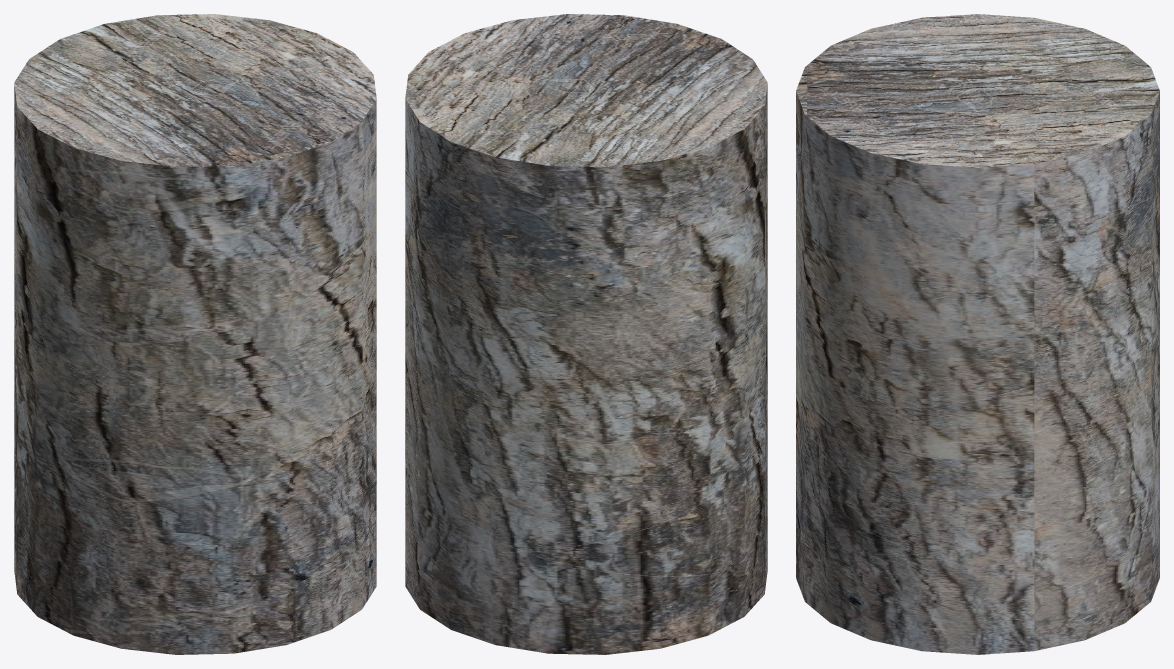
File: plantCylinder.obj
3 views of the same model, side by side, from view 1: azimuth 30°, elevation 25°; view 2: azimuth 150°, elevation 25°; view 3: azimuth 270°, elevation 25° (orthographic).
Parts seen in each view (by area): view 1: plantCylinder:pCylinder1; view 2: plantCylinder:pCylinder1; view 3: plantCylinder:pCylinder1.
Boxes of the visible parts, x1,y1,x2,y2 form: plantCylinder:pCylinder1: (14, 14, 376, 654); plantCylinder:pCylinder1: (405, 14, 767, 654); plantCylinder:pCylinder1: (796, 14, 1159, 654).
Size of the model in its own units: 0.3 by 0.4431 by 0.3.
1 material, 1 textured.
